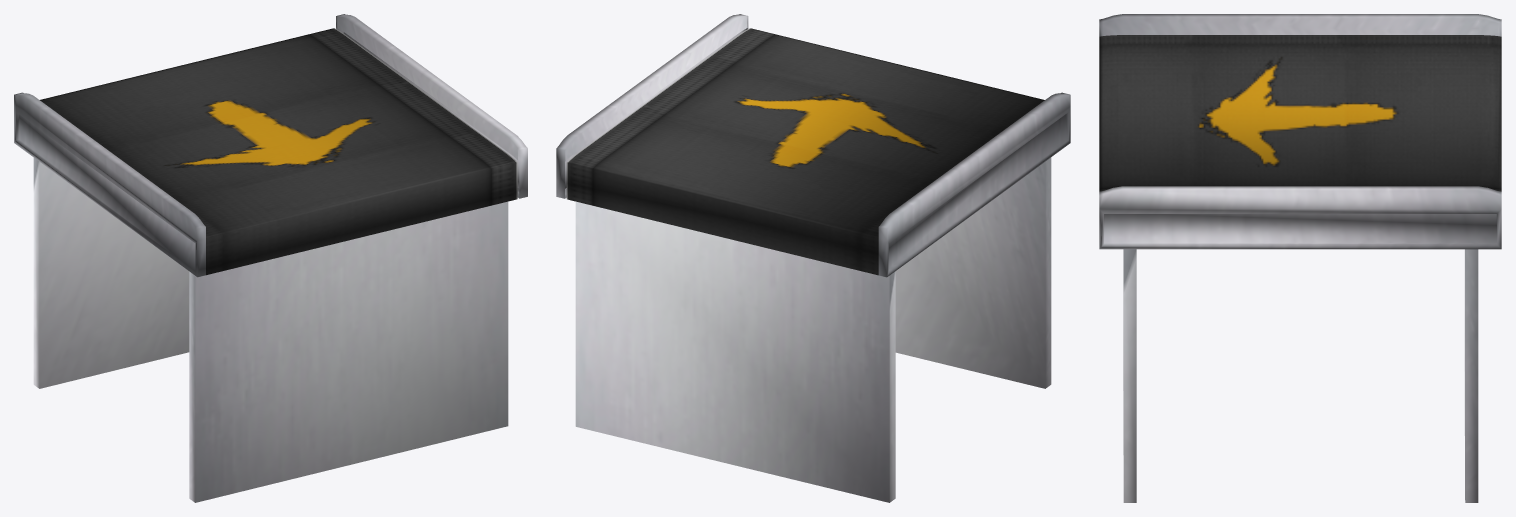
File: Convoy.fbx
3 views of the same model, side by side, from view 1: azimuth 30°, elevation 25°; view 2: azimuth 150°, elevation 25°; view 3: azimuth 270°, elevation 25° (orthographic). The views are drawn at different scales.
Parts seen in each view (by area): view 1: Convoy; view 2: Convoy; view 3: Convoy.
Part boxes in pixels (<box>): Convoy: <box>14,14,527,502</box>; Convoy: <box>556,14,1070,502</box>; Convoy: <box>1099,14,1501,502</box>.
Bounding box in the file's own units: 1.04 × 1 × 0.8701.
